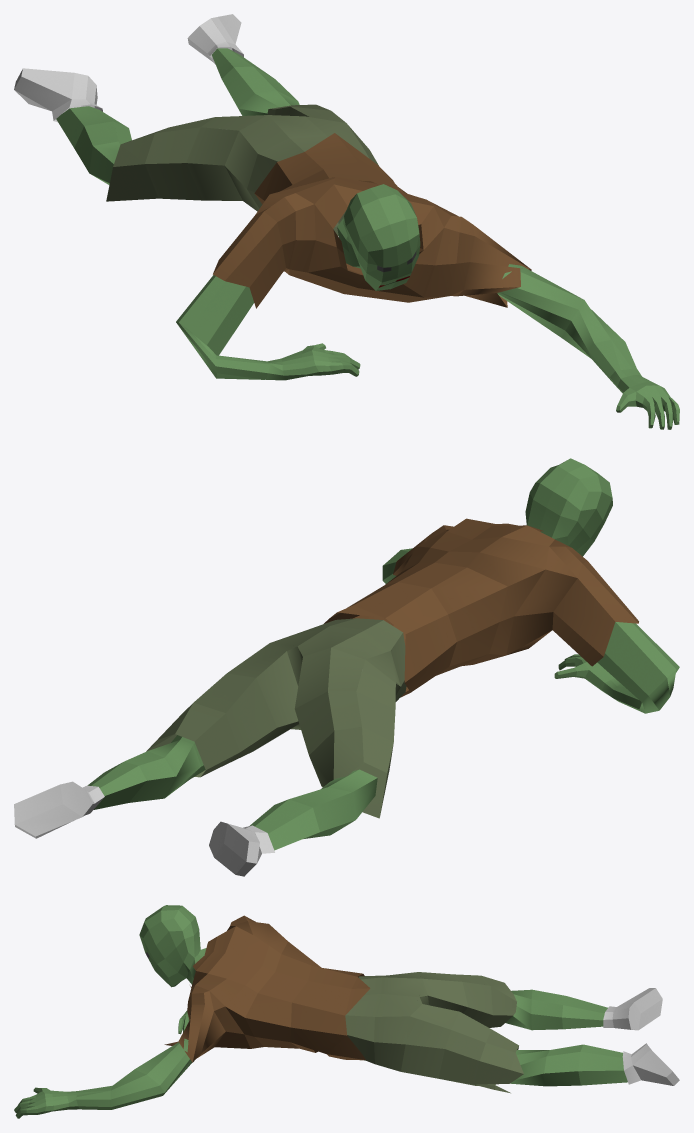
The model's file is ZombieCrawl(118).obj.
3 views of the same model, one above another, from view 1: azimuth 30°, elevation 25°; view 2: azimuth 150°, elevation 25°; view 3: azimuth 270°, elevation 25° (orthographic). The views are drawn at different scales.
Visible parts, largest first — view 1: Object001; view 2: Object001; view 3: Object001.
Part boxes in pixels (box(x1,y1,x2,y2)): Object001: box(14, 14, 679, 429); Object001: box(14, 458, 679, 876); Object001: box(14, 905, 679, 1118).
Size of the model in its own units: 32.71 by 17.9 by 73.24.
